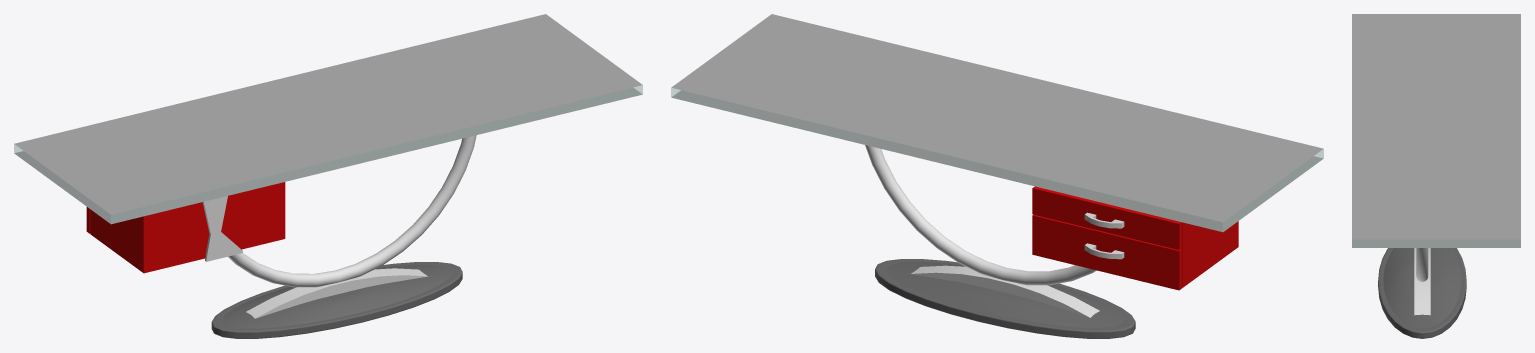
File: desk.fbx
3 views of the same model, side by side, from view 1: azimuth 30°, elevation 25°; view 2: azimuth 150°, elevation 25°; view 3: azimuth 270°, elevation 25° (orthographic). The views are drawn at different scales.
Parts seen in each view (by area): view 1: desktop, deskDrawers, deskBase1, deskFrame, deskBase2, deskDrawersTopSupport; view 2: desktop, deskDrawers, deskBase1, deskFrame, deskBase2; view 3: desktop, deskBase1, deskBase2, deskFrame.
Part boxes in pixels (x1,y1,x2,y2): desktop: (14, 14, 642, 224); deskDrawers: (86, 182, 285, 273); deskBase1: (211, 262, 462, 338); deskFrame: (228, 135, 476, 287); deskBase2: (246, 268, 428, 318); deskDrawersTopSupport: (202, 196, 242, 261); desktop: (671, 14, 1323, 232); deskDrawers: (1032, 186, 1238, 290); deskBase1: (875, 259, 1135, 338); deskFrame: (865, 145, 1096, 285); deskBase2: (911, 265, 1099, 317); desktop: (1352, 14, 1520, 247); deskBase1: (1378, 248, 1466, 338); deskBase2: (1414, 248, 1430, 315); deskFrame: (1416, 248, 1428, 281).
Size of the model in its own units: 239 by 79.03 by 75.51.
